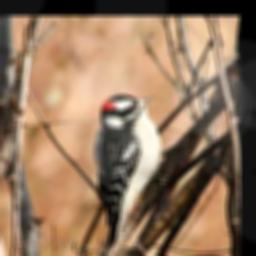Woodpecker: (95, 94, 167, 251)
